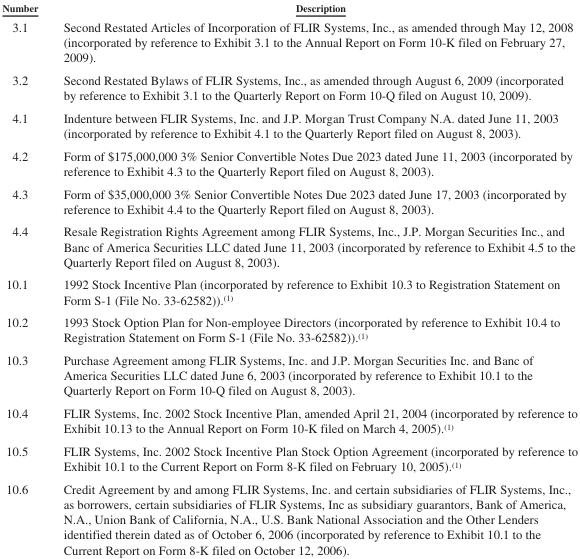table: (1, 1, 577, 556)
table column: (50, 1, 577, 556), (1, 1, 50, 556)
table column header: (1, 1, 577, 16)
table row: (1, 477, 577, 556), (1, 219, 577, 272), (1, 348, 577, 401), (1, 16, 577, 68), (1, 68, 577, 106), (1, 143, 577, 181), (1, 181, 577, 219), (1, 272, 577, 310), (1, 310, 577, 348), (1, 401, 577, 439), (1, 439, 577, 477), (1, 106, 577, 143), (1, 1, 577, 16)
